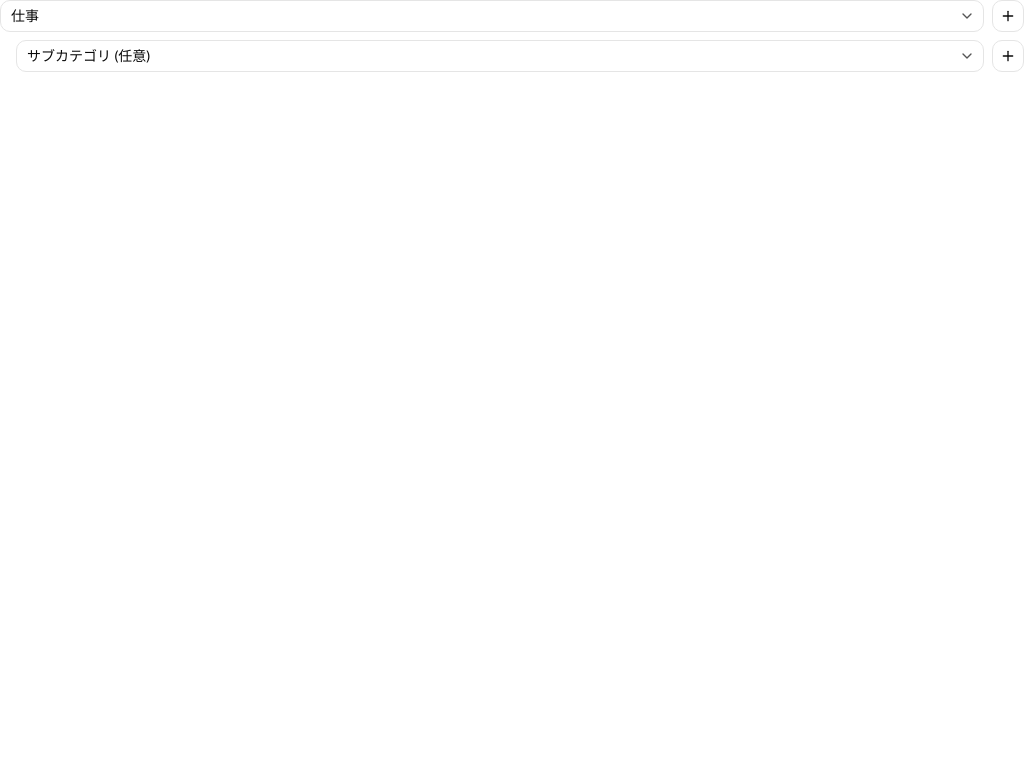
CategorySelector › サブカテゴリ追加ボタンをクリックするとサブカテゴリ作成ダイアログが開く
The width and height of the screenshot is (1024, 768).
Click the button named "サブカテゴリを追加" at (1008, 56), box [992,40,1023,72]
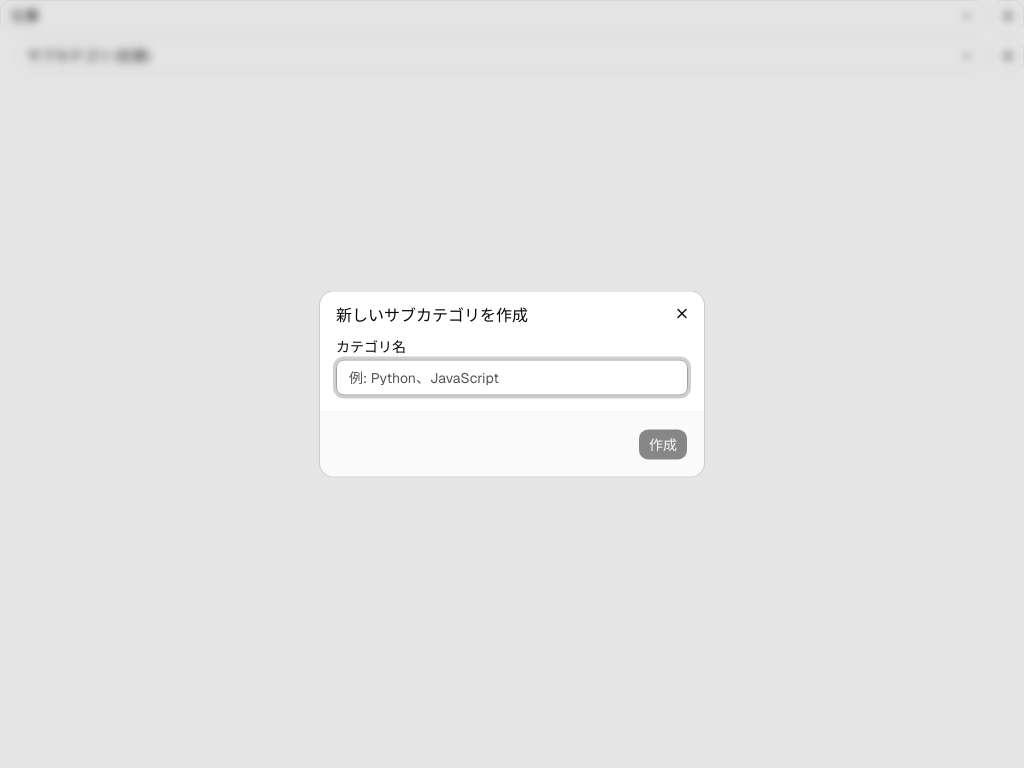
expect the heading "新しいサブカテゴリを作成" is shown: met, box [336,304,528,326]
